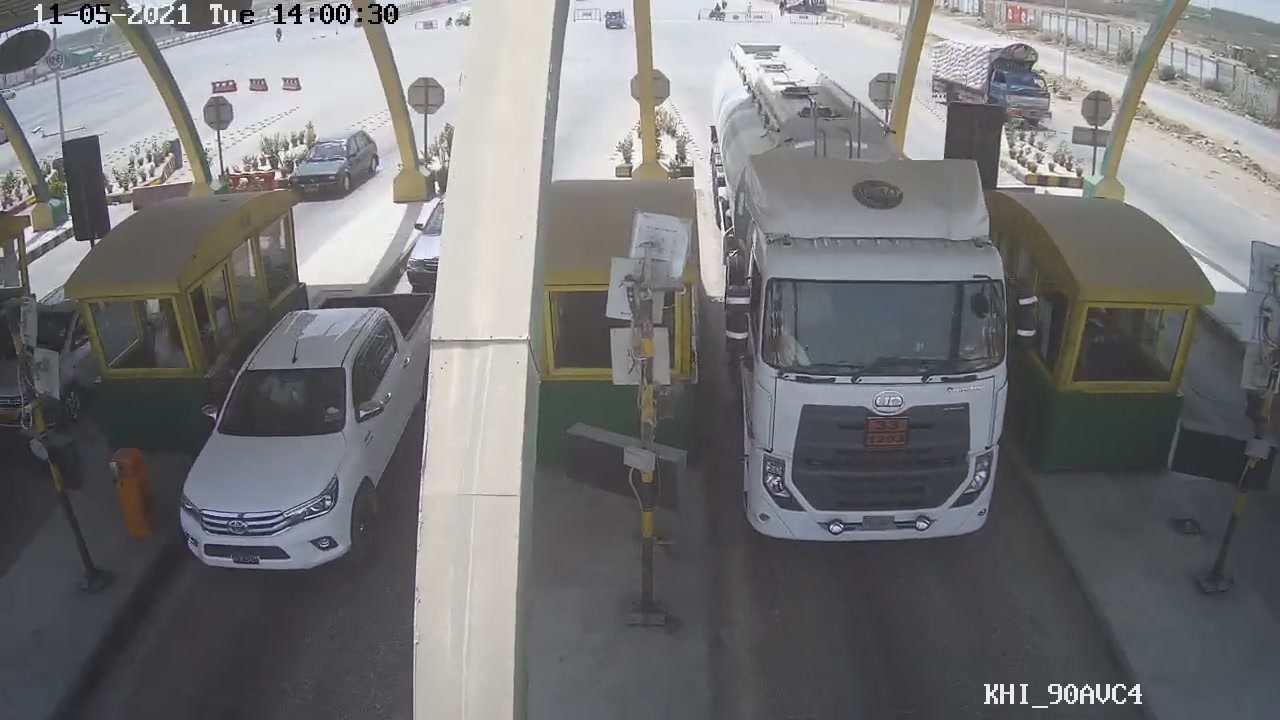F6: (701, 40, 1013, 556)
